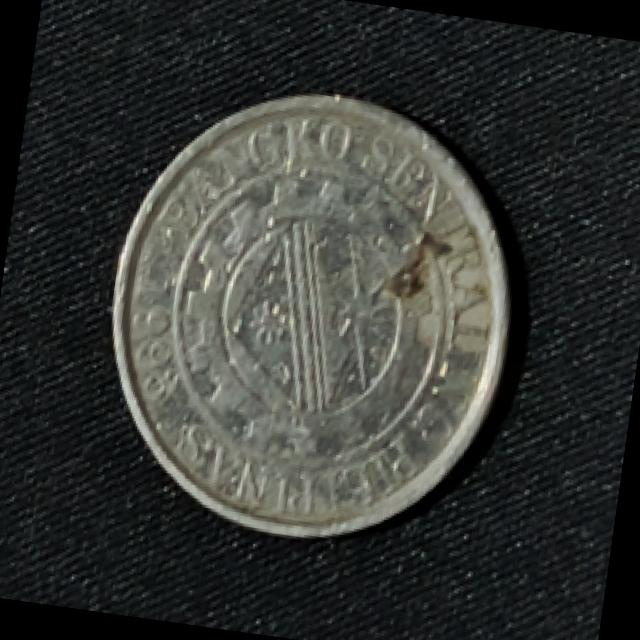1_peso: (112, 96, 508, 535)
